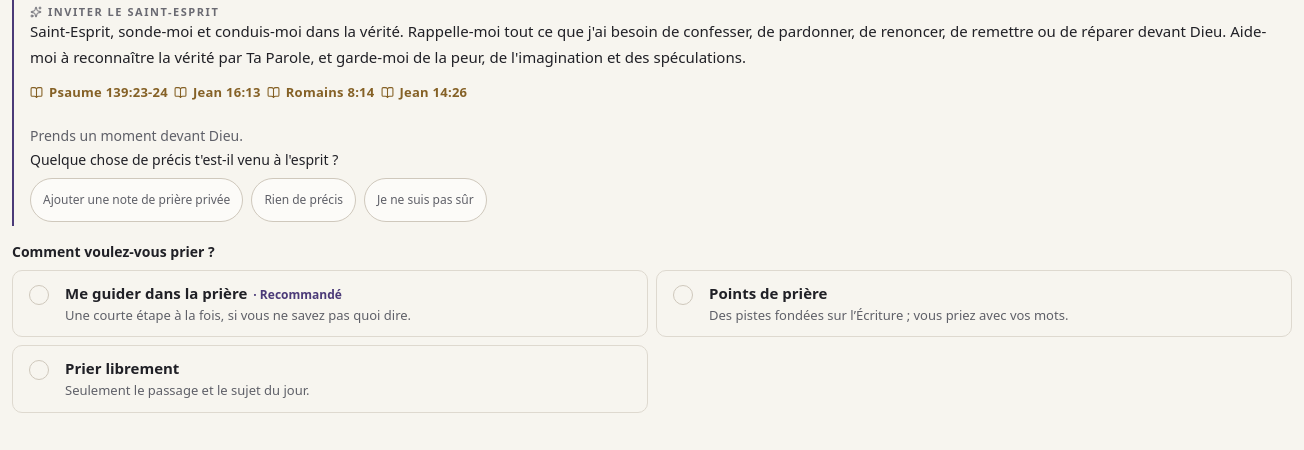
Test: the Holy Spirit invitation › treats "nothing specific" as a complete answer and reassures the reader
Click the button "Rien de précis".
click(304, 200)  # box [251, 178, 356, 222]
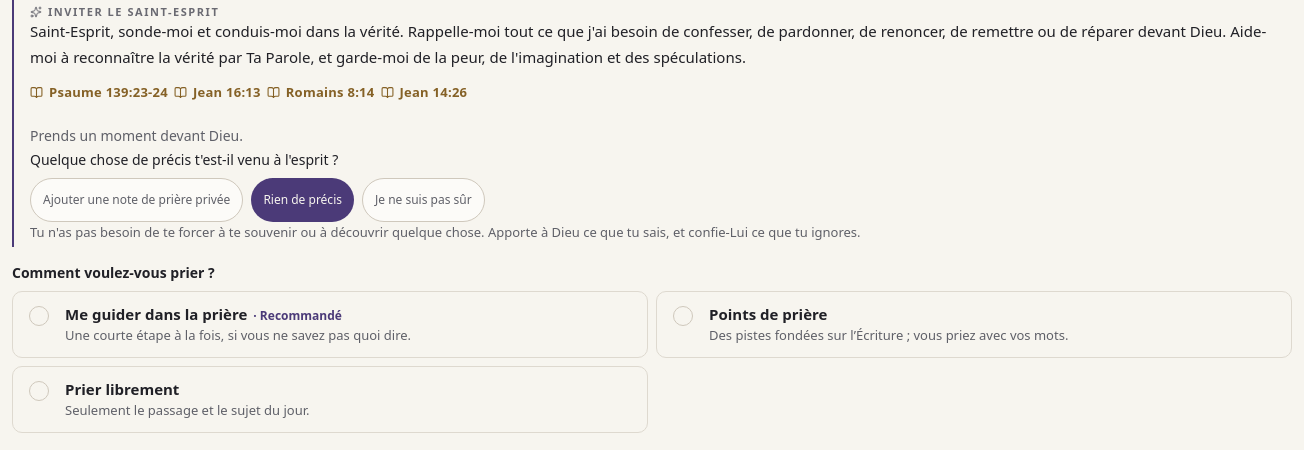
Expected: the text "Me guider dans la prière" is shown, [65, 304, 247, 324]
Now the text "Tu n'as pas besoin de te forcer à te souvenir ou à découvrir quelque chose. Apporte à Dieu ce que tu sais, et confie-Lui" is shown, box [30, 223, 861, 241]
